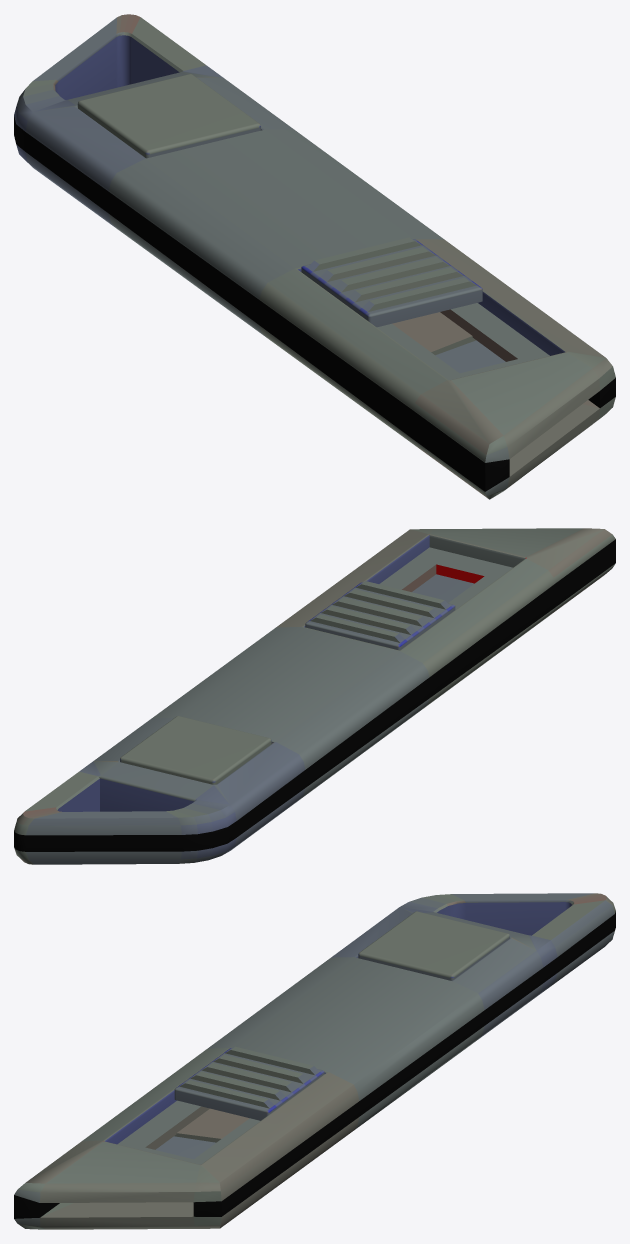
The model's file is Knife_02_LO.fbx.
The picture shows the model from 3 angles, top to bottom: view 1: azimuth 30°, elevation 25°; view 2: azimuth 150°, elevation 25°; view 3: azimuth 330°, elevation 25°; orthographic projection. The views are drawn at different scales.
Parts seen in each view (by area): view 1: Kniv_02_LO, KnifeBlade, KnifeButton; view 2: Kniv_02_LO, KnifeBlade, KnifeButton; view 3: Kniv_02_LO, KnifeBlade, KnifeButton.
Boxes of the visible parts, x1,y1,x2,y2 form: Kniv_02_LO: (14, 14, 615, 499); KnifeBlade: (301, 237, 505, 372); KnifeButton: (77, 74, 260, 158); Kniv_02_LO: (14, 528, 615, 864); KnifeBlade: (305, 574, 474, 650); KnifeButton: (120, 716, 271, 784); Kniv_02_LO: (14, 893, 615, 1229); KnifeBlade: (155, 1046, 324, 1159); KnifeButton: (358, 911, 509, 980).
Size of the model in its own units: 7.29 by 3.27 by 35.23.
